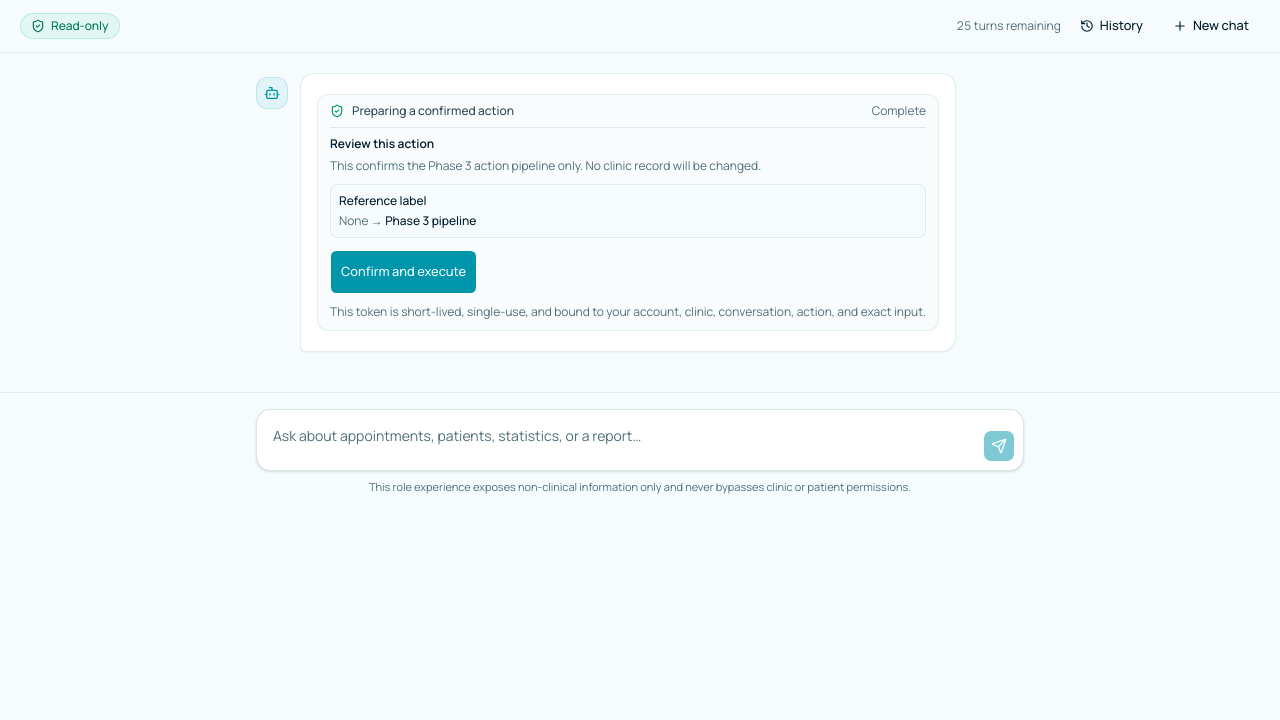
Test: Phase 3 action confirmation UI › renders the specific confirmation_expired state
What coordinates should you click on to do the following:
click the button "Confirm and execute"
I would click on:
 (404, 272)
Its box is [330, 250, 477, 294].
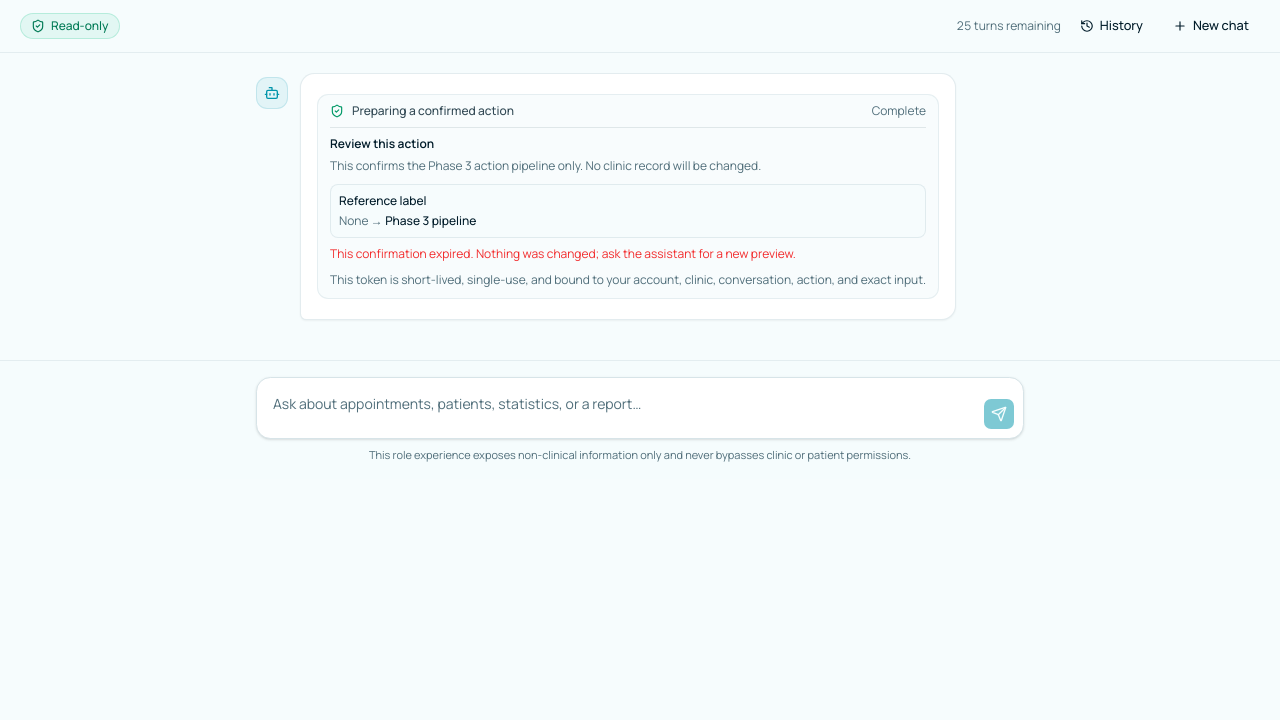
Expected: the message shows "This confirmation expired. Nothing was changed; ask the assistant for a new preview.", [330, 245, 796, 262]
